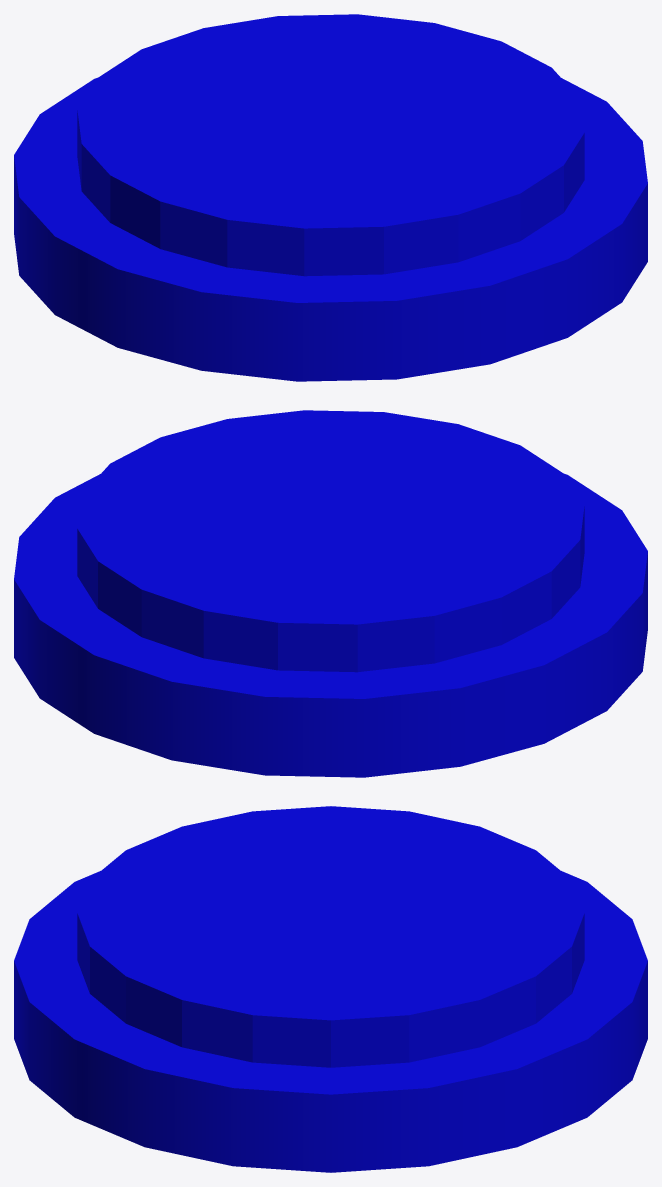
File: Button.fbx
3 views of the same model, one above another, from view 1: azimuth 30°, elevation 25°; view 2: azimuth 150°, elevation 25°; view 3: azimuth 270°, elevation 25° (orthographic).
Parts seen in each view (by area): view 1: polySurface2, polySurface1; view 2: polySurface2, polySurface1; view 3: polySurface2, polySurface1.
Boxes of the visible parts, bbox=[...] form: polySurface2: bbox=[77, 14, 584, 276]; polySurface1: bbox=[14, 77, 647, 381]; polySurface2: bbox=[77, 410, 584, 672]; polySurface1: bbox=[14, 473, 647, 777]; polySurface2: bbox=[77, 806, 584, 1067]; polySurface1: bbox=[14, 871, 647, 1172].
Size of the model in its own units: 2 by 0.4372 by 2.
